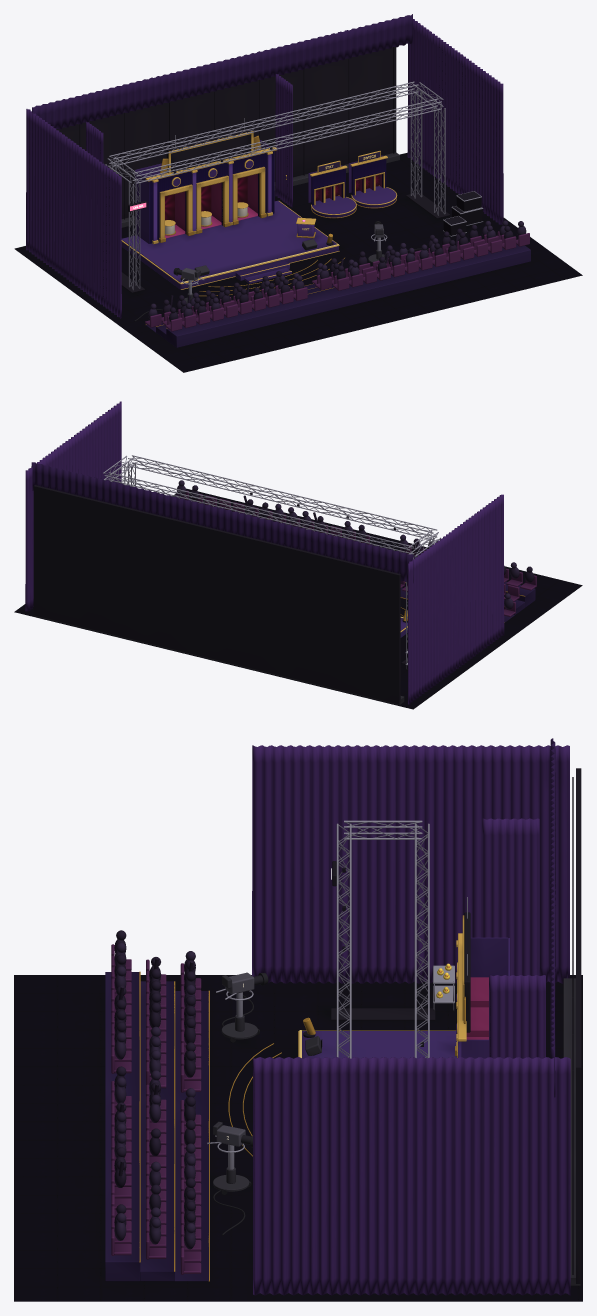
The model's file is game-show-studio.glb.
3 renders of one model, top to bottom at view 1: azimuth 30°, elevation 25°; view 2: azimuth 150°, elevation 25°; view 3: azimuth 270°, elevation 25°, orthographic. The views are drawn at different scales.
Parts seen in each view (by area): view 1: set_curtain, set_floor, set_black, set_curtain_dk, set_stage_side, set_steel, set_stage_dk, set_seat, set_gold, set_velvet_tuft, set_crowd, set_crowd_b (+7 smaller); view 2: set_black, set_curtain, set_curtain_dk, set_steel, set_floor, set_seat, set_crowd_b, set_crowd, set_cam_dk, set_stage_dk; view 3: set_curtain, set_floor, set_stage_dk, set_seat, set_steel, set_black, set_crowd, set_crowd_b, set_cam_dk, set_stage_side, set_wall_dk, set_gold_dk (+4 smaller).
Part boxes in pixels (bbox=[...]): set_curtain: bbox=[26, 19, 503, 318]; set_floor: bbox=[14, 152, 582, 372]; set_black: bbox=[56, 47, 482, 292]; set_curtain_dk: bbox=[32, 14, 412, 129]; set_stage_side: bbox=[121, 186, 396, 289]; set_steel: bbox=[105, 81, 483, 294]; set_stage_dk: bbox=[146, 244, 530, 347]; set_seat: bbox=[145, 231, 529, 331]; set_gold: bbox=[121, 131, 397, 289]; set_velvet_tuft: bbox=[149, 151, 386, 243]; set_crowd: bbox=[162, 224, 513, 321]; set_crowd_b: bbox=[148, 220, 526, 318]; set_black: bbox=[33, 485, 407, 704]; set_curtain: bbox=[25, 401, 504, 704]; set_curtain_dk: bbox=[31, 462, 413, 582]; set_steel: bbox=[103, 455, 440, 668]; set_floor: bbox=[14, 488, 582, 709]; set_seat: bbox=[177, 490, 536, 616]; set_crowd_b: bbox=[174, 480, 519, 609]; set_crowd: bbox=[189, 485, 534, 582]; set_cam_dk: bbox=[33, 615, 404, 705]; set_stage_dk: bbox=[400, 581, 535, 622]; set_curtain: bbox=[252, 745, 570, 1295]; set_floor: bbox=[14, 975, 582, 1301]; set_stage_dk: bbox=[105, 972, 208, 1281]; set_seat: bbox=[111, 944, 201, 1274]; set_steel: bbox=[207, 820, 467, 1169]; set_black: bbox=[303, 768, 581, 1283]; set_crowd: bbox=[114, 930, 195, 1233]; set_crowd_b: bbox=[114, 942, 195, 1249]; set_cam_dk: bbox=[213, 975, 580, 1285]; set_stage_side: bbox=[302, 1031, 456, 1058]; set_wall_dk: bbox=[456, 937, 509, 1058]; set_gold_dk: bbox=[139, 971, 465, 1281].
Size of the model in its own units: 17.8 by 6.21 by 13.1.
Materials: 30 (4 with a texture image).
